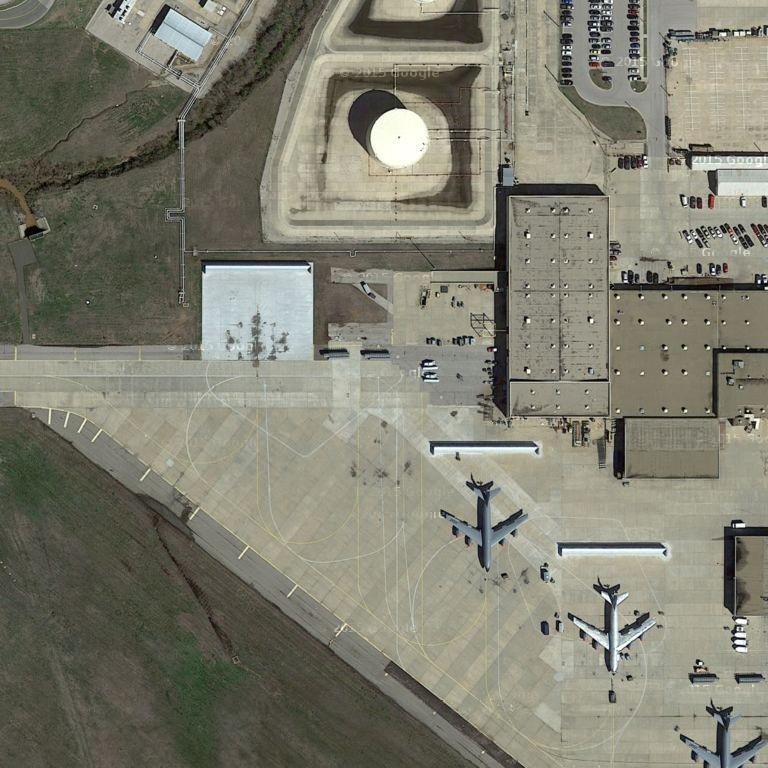E-8: (563, 583, 662, 678)
KC-135: (437, 479, 534, 576), (670, 701, 767, 768)
